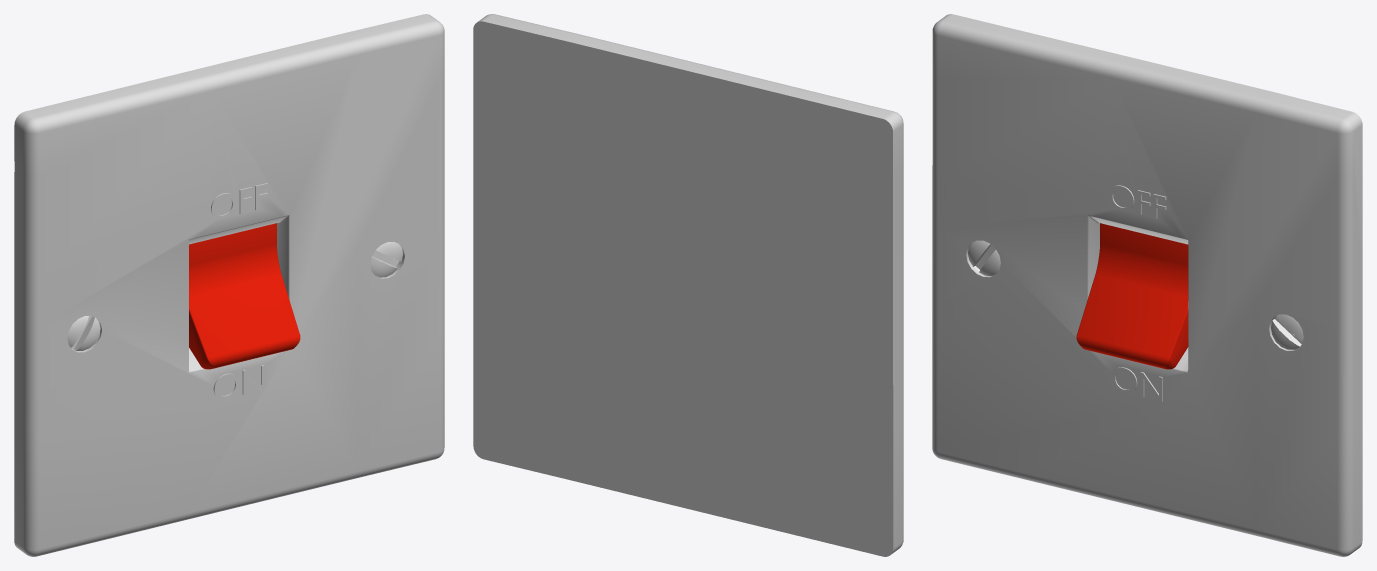
The model's file is Switch.fbx.
3 views of the same model, side by side, from view 1: azimuth 30°, elevation 25°; view 2: azimuth 150°, elevation 25°; view 3: azimuth 330°, elevation 25° (orthographic).
Visible parts, largest first — view 1: Plate; view 2: Plate; view 3: Plate.
Boxes of the visible parts, bbox=[...] form: Plate: bbox=[14, 14, 444, 556]; Plate: bbox=[473, 14, 903, 556]; Plate: bbox=[932, 14, 1362, 556].
Bounding box in the file's own units: 8.61 × 8.59 × 1.09.
